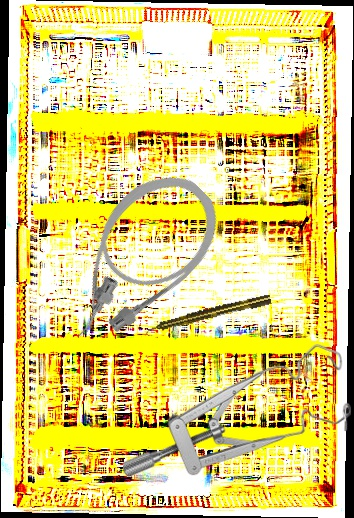Cannula: (32, 154, 238, 361)
Handpiece: (143, 293, 273, 336)
Speculum: (123, 344, 351, 479)
